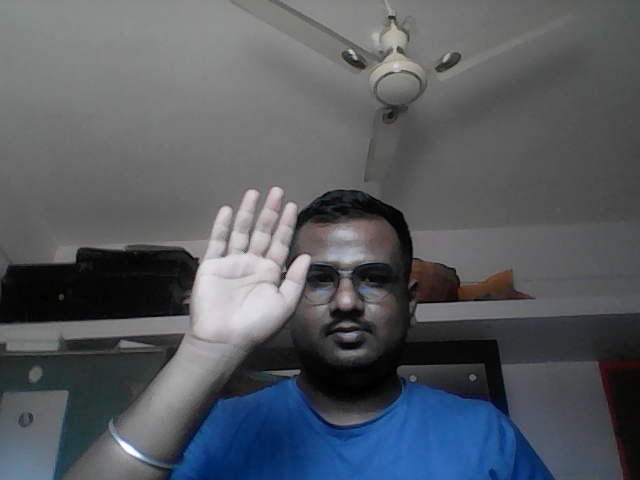Hello: (188, 184, 313, 353)
